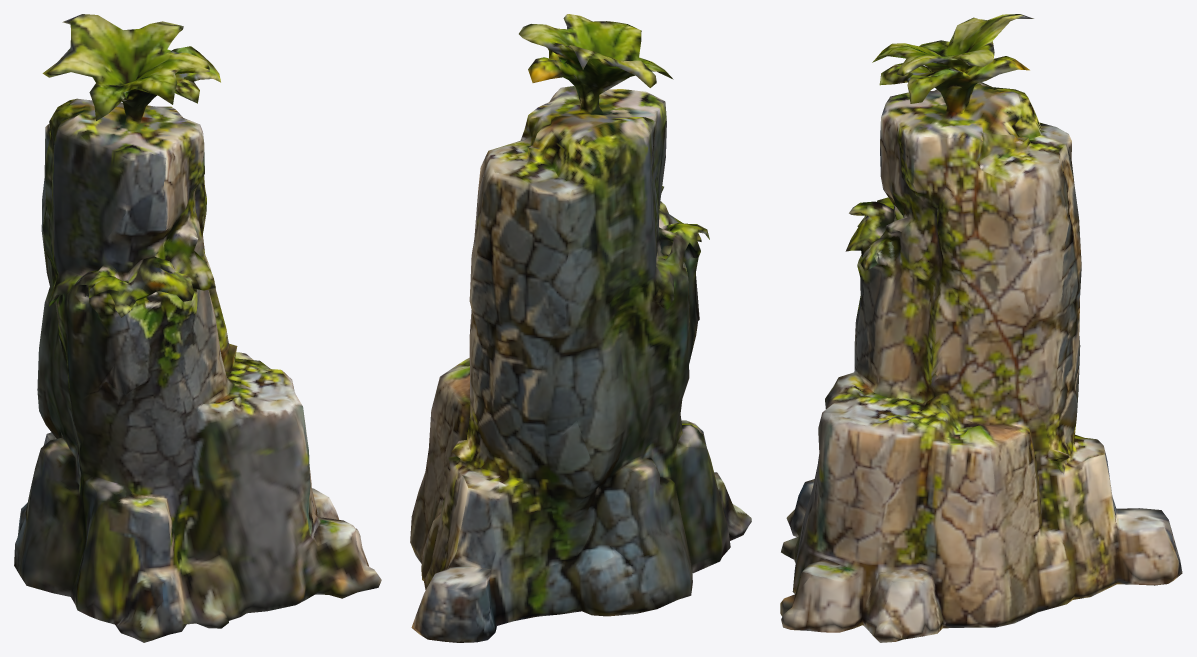
The model's file is SummerDecor_ThirdRoom_RockPillar.fbx.
3 renders of one model, left to right at view 1: azimuth 30°, elevation 25°; view 2: azimuth 150°, elevation 25°; view 3: azimuth 270°, elevation 25°, orthographic. The views are drawn at different scales.
Parts seen in each view (by area): view 1: SummerDecor_ThirdRoom_RockPillar_Mesh; view 2: SummerDecor_ThirdRoom_RockPillar_Mesh; view 3: SummerDecor_ThirdRoom_RockPillar_Mesh.
Boxes of the visible parts, x1,y1,x2,y2 form: SummerDecor_ThirdRoom_RockPillar_Mesh: [14, 14, 381, 642]; SummerDecor_ThirdRoom_RockPillar_Mesh: [410, 14, 751, 642]; SummerDecor_ThirdRoom_RockPillar_Mesh: [780, 14, 1182, 642].
Size of the model in its own units: 3.46 by 6 by 4.12.
1 material, 1 textured.
